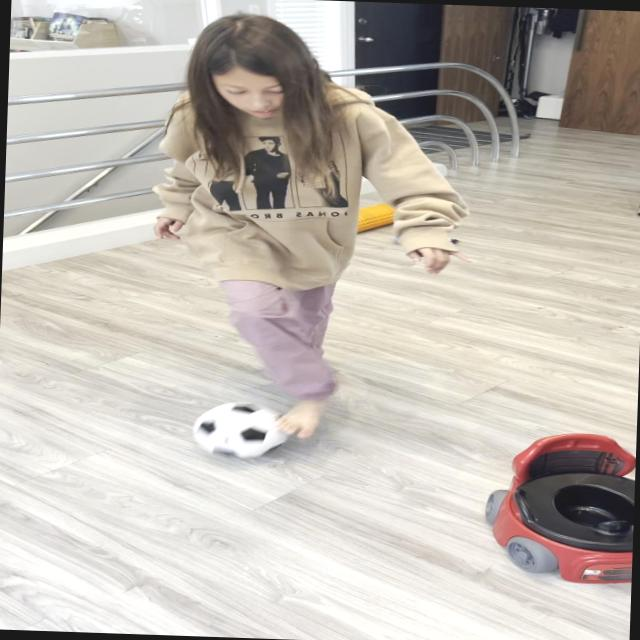Soccer Ball: (190, 400, 291, 459)
